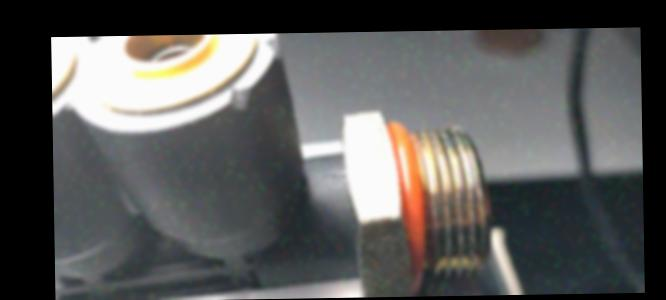bump: (224, 78, 260, 116), (258, 34, 289, 64)
joint line: (302, 174, 326, 182)
white mark: (334, 166, 347, 179)
